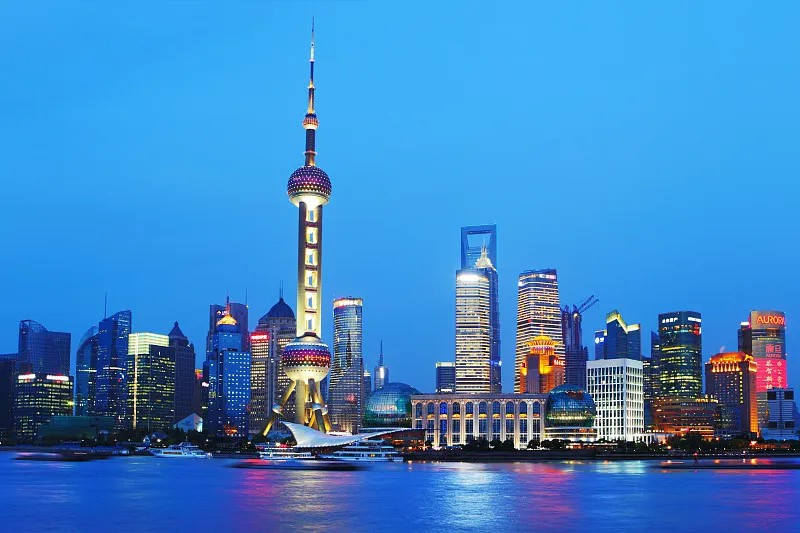Oriental: (266, 16, 332, 432)
